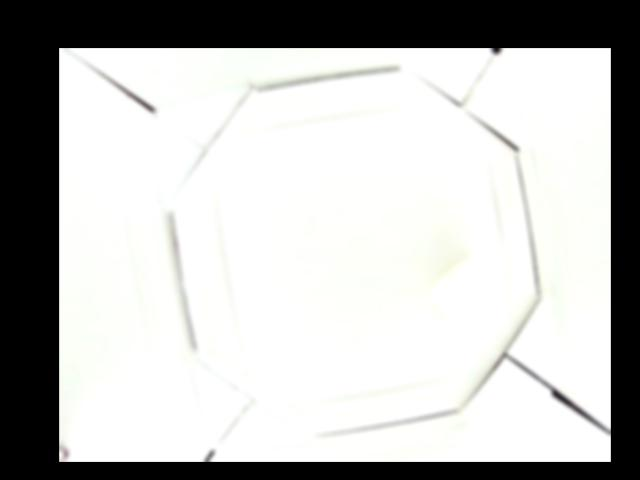Mooli: (427, 240, 512, 318)
